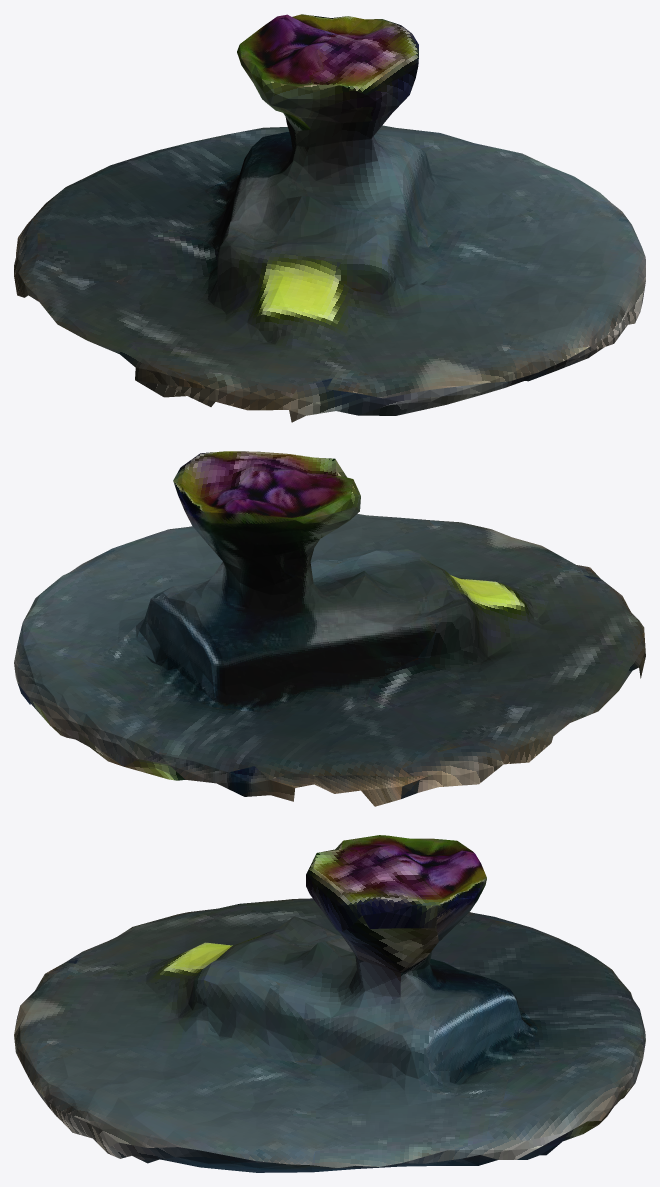
File: 1024-conductor.glb
3 views of the same model, one above another, from view 1: azimuth 30°, elevation 25°; view 2: azimuth 150°, elevation 25°; view 3: azimuth 270°, elevation 25° (orthographic).
Visible parts, largest first — view 1: Mesh_0; view 2: Mesh_0; view 3: Mesh_0.
Part boxes in pixels (<box>): Mesh_0: <box>14,14,645,422</box>; Mesh_0: <box>14,451,645,806</box>; Mesh_0: <box>14,835,645,1172</box>.
Size of the model in its own units: 0.3642 by 0.141 by 0.3662.
Materials: 1 (1 with a texture image).
